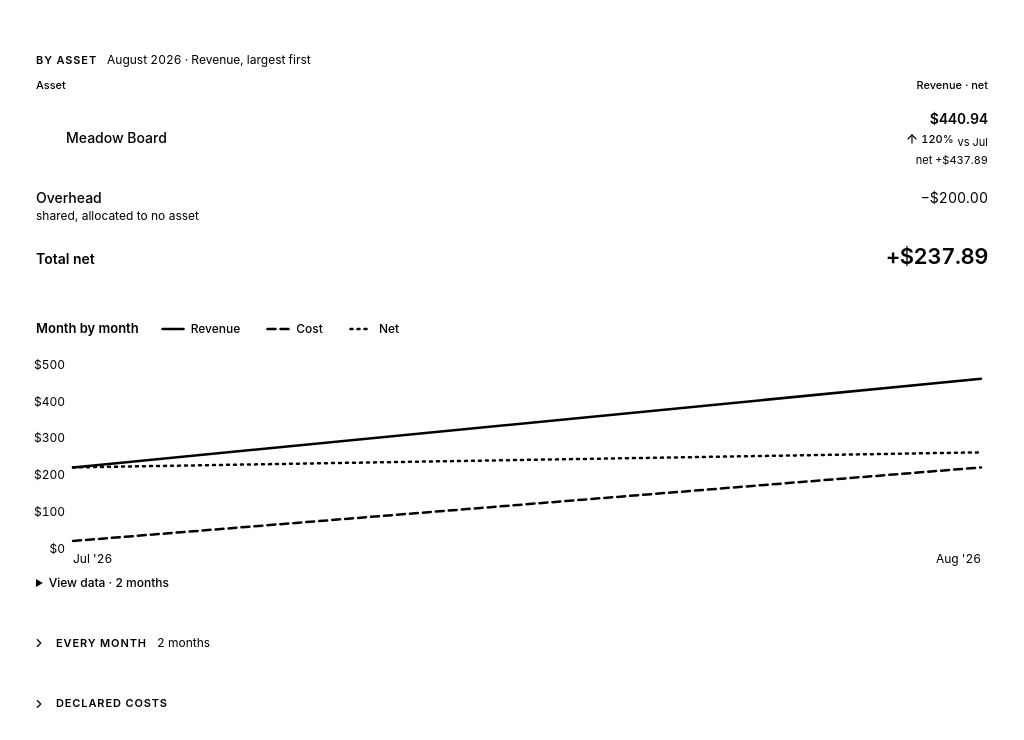
Test case: /financials — what the selector does not touch › keeps the month-by-month table on the whole ledger
(page scrolled)
What coordinates should you click on to do the following:
click the button "Every month 2 months"
I would click on:
 (101, 643)
Its box is [16,623,1008,663].
(page scrolled)
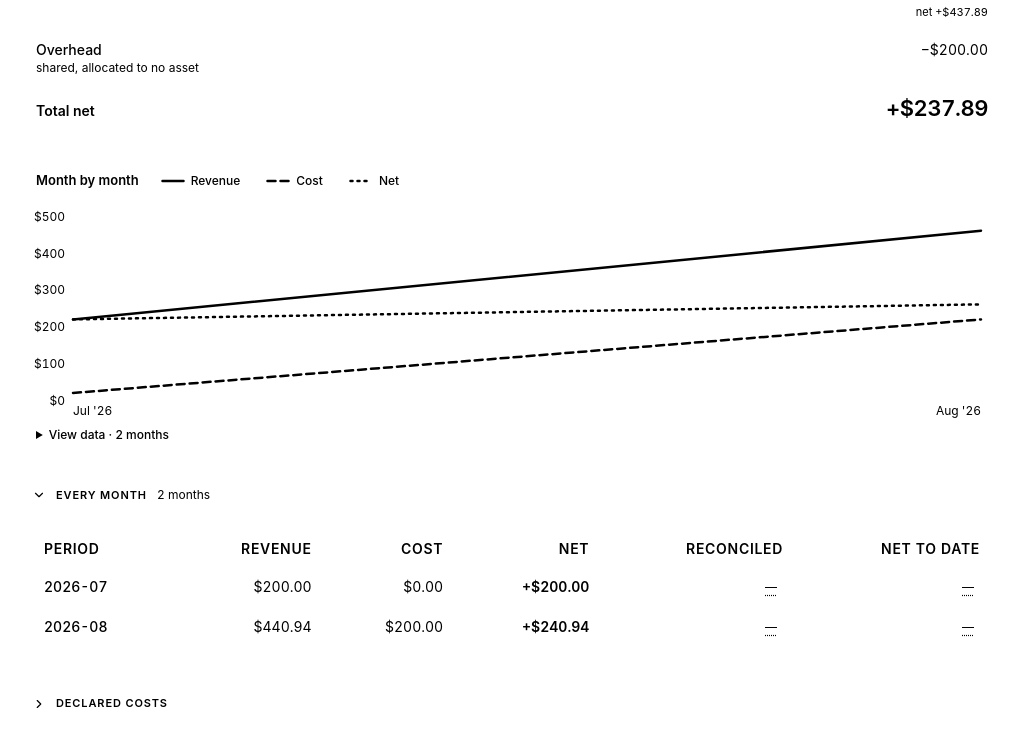
expect the text "2026-07" is shown: met, box [32,567,172,607]
expect the text "2026-08" is shown: met, box [32,607,172,647]
